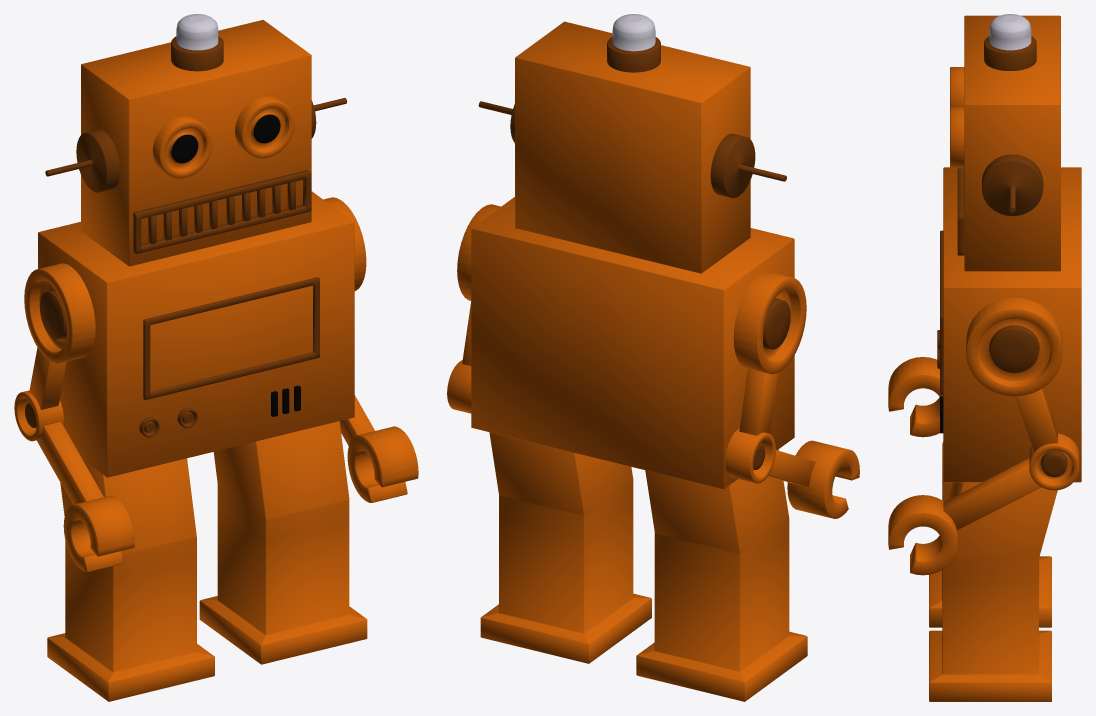
Rendered from robot.dae.
3 renders of one model, left to right at view 1: azimuth 30°, elevation 25°; view 2: azimuth 150°, elevation 25°; view 3: azimuth 270°, elevation 25°, orthographic. The views are drawn at different scales.
Visible parts, largest first — view 1: Plane; view 2: Plane; view 3: Plane.
Boxes of the visible parts, box(x1,y1,x2,y2) form: Plane: box(14, 14, 418, 701); Plane: box(447, 14, 859, 701); Plane: box(888, 14, 1081, 701).
Bounding box in the file's own units: 0.5045 × 0.264 × 0.9354.
